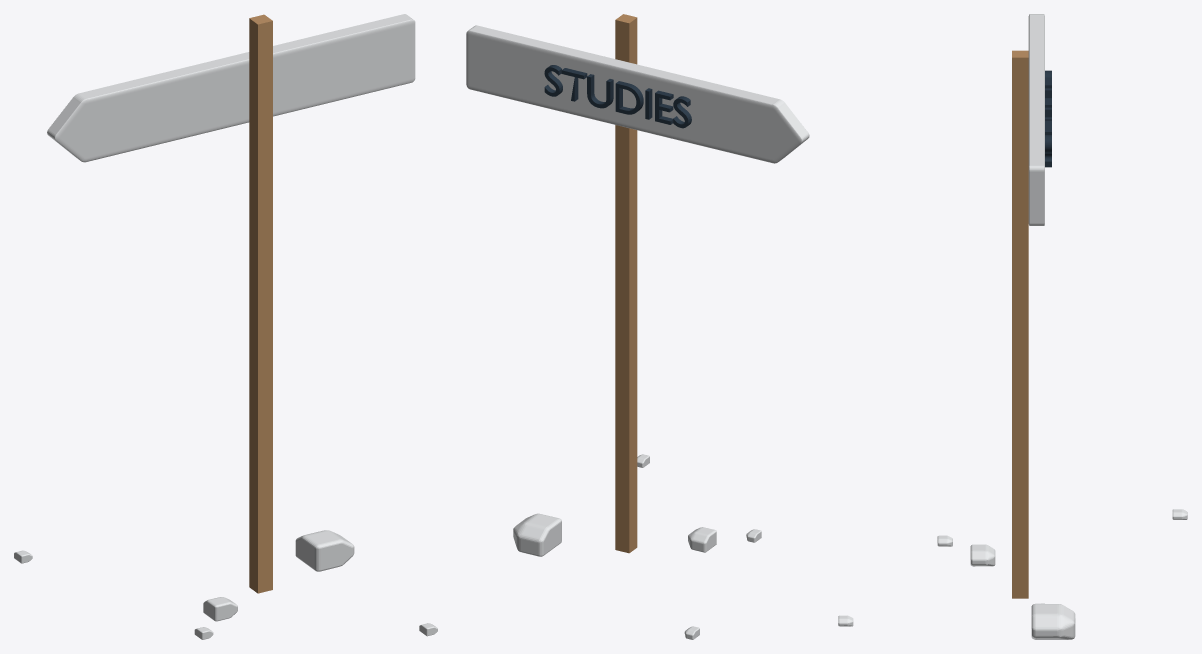
The model's file is signStudies.glb.
3 views of the same model, side by side, from view 1: azimuth 30°, elevation 25°; view 2: azimuth 150°, elevation 25°; view 3: azimuth 270°, elevation 25° (orthographic). The views are drawn at different scales.
Visible parts, largest first — view 1: Cube.001, Cube, Cube.002, Cube.003; view 2: Cube.001, Cube, Text.001, Cube.002, Cube.003; view 3: Cube, Cube.001, Cube.002, Text.001, Cube.003.
Part boxes in pixels (x1=…): Cube.001: x1=47, y1=14, x2=415, y2=162; Cube: x1=249, y1=14, x2=272, y2=593; Cube.002: x1=295, y1=530, x2=354, y2=571; Cube.003: x1=203, y1=597, x2=237, y2=621; Cube.001: x1=466, y1=25, x2=809, y2=163; Cube: x1=615, y1=14, x2=637, y2=553; Text.001: x1=544, y1=65, x2=691, y2=128; Cube.002: x1=513, y1=513, x2=561, y2=556; Cube.003: x1=688, y1=527, x2=716, y2=552; Cube: x1=1012, y1=50, x2=1028, y2=598; Cube.001: x1=1028, y1=14, x2=1044, y2=225; Cube.002: x1=1031, y1=603, x2=1075, y2=639; Text.001: x1=1045, y1=70, x2=1051, y2=167; Cube.003: x1=970, y1=544, x2=995, y2=566.
Size of the model in its own units: 11.94 by 18.14 by 10.54.
